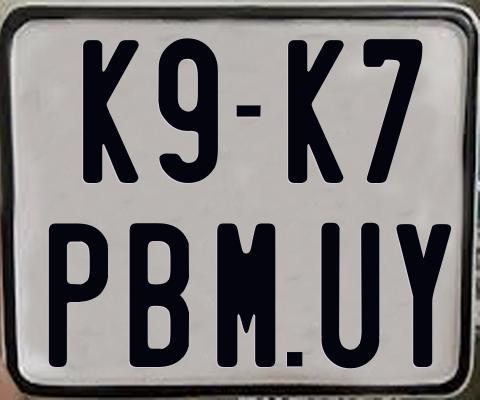7: (361, 36, 425, 182)
9: (155, 35, 220, 186)
B: (127, 223, 190, 373)
K: (288, 40, 346, 187), (83, 39, 139, 188)
M: (216, 220, 277, 368)
P: (49, 222, 112, 366)
U: (318, 223, 381, 371)
Y: (396, 221, 455, 369)
